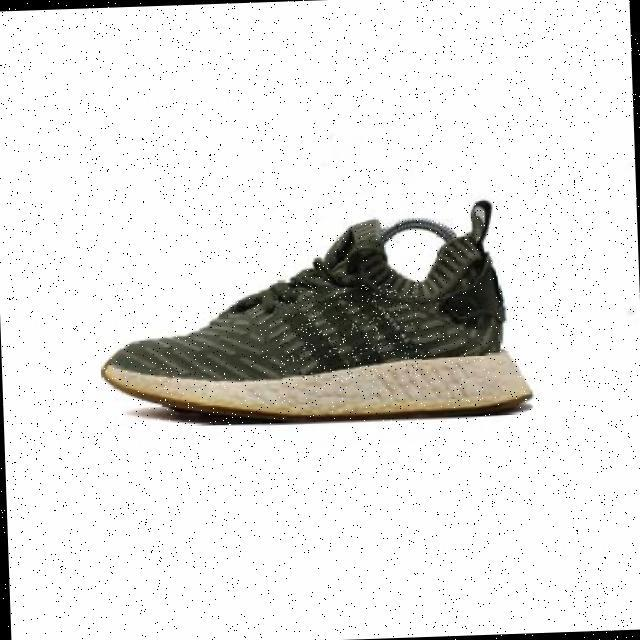Adidas: (279, 282, 422, 381)
